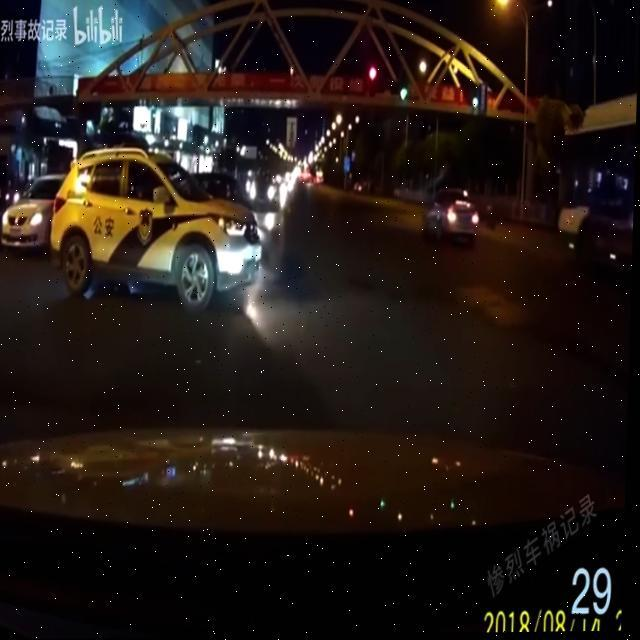multiple_accident: (35, 70, 315, 318)
